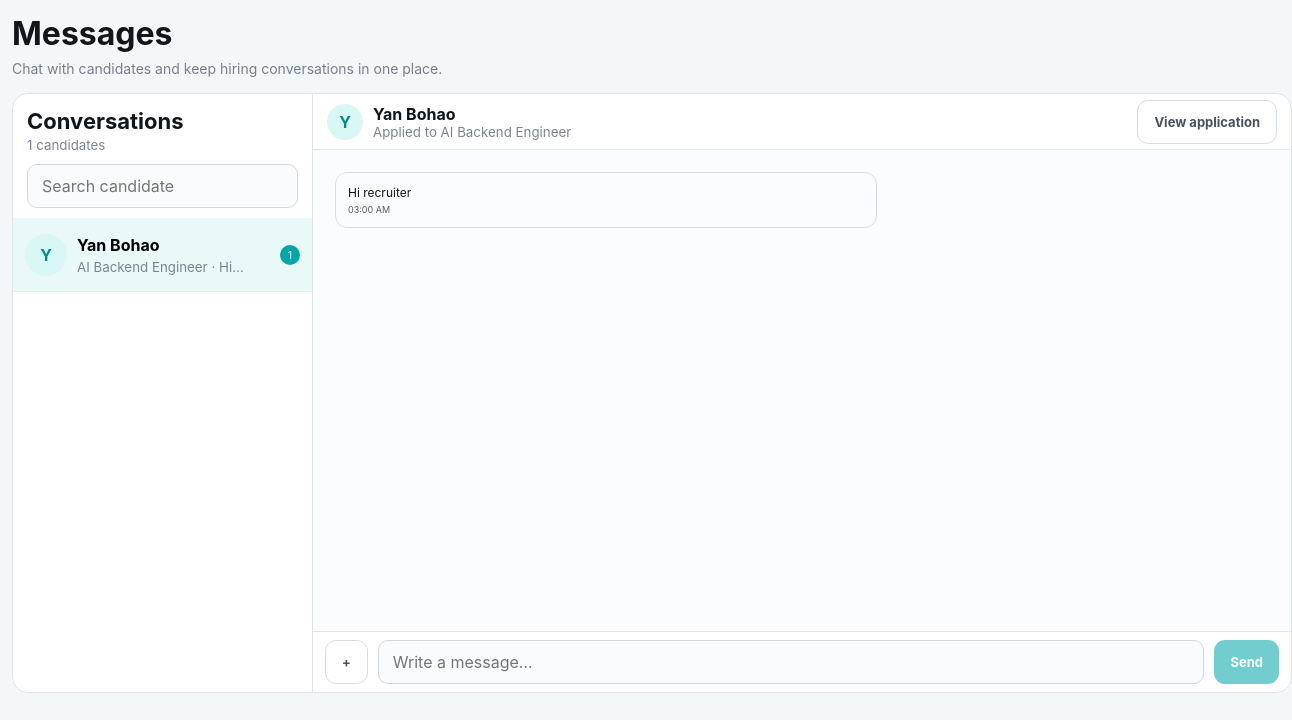
MessagesPage › explains a network send failure and clears the stale error after editing
Type "hello" into the field with placeholder "Write a message…" at (791, 662), box [378, 640, 1204, 684]
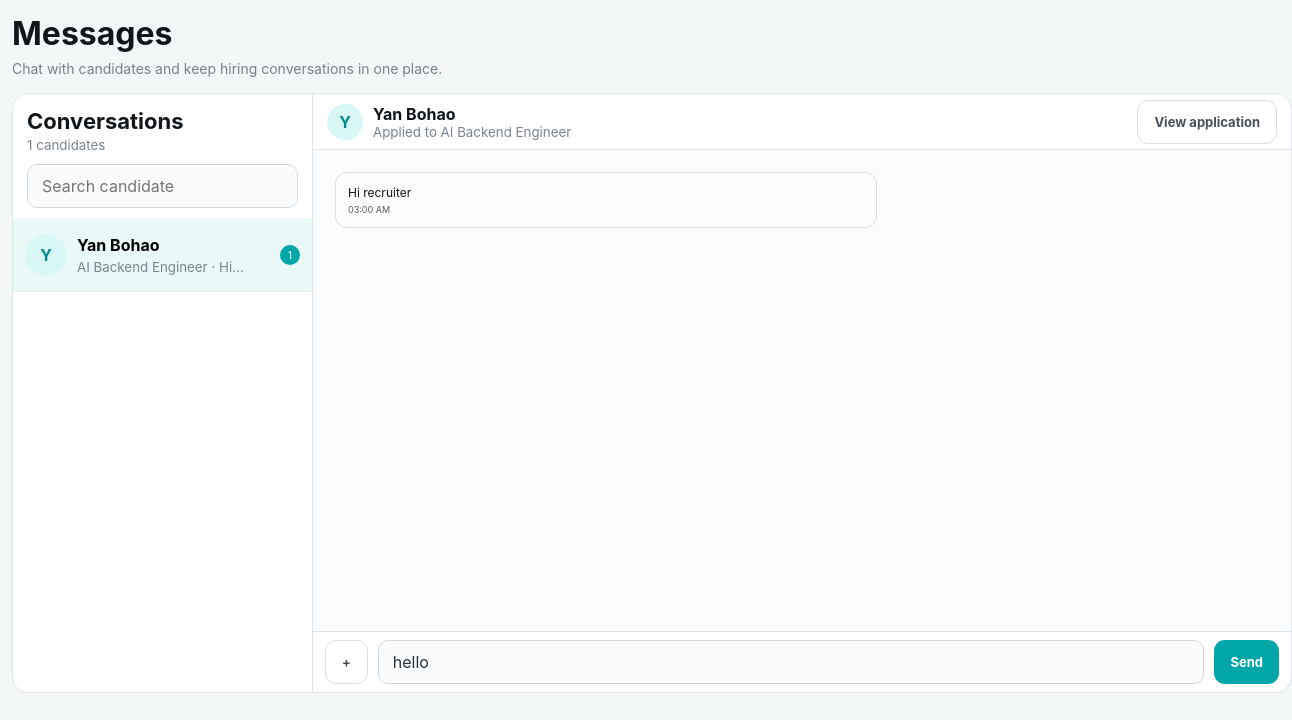
Click the button "Send" at (1247, 662), box [1214, 640, 1279, 684]
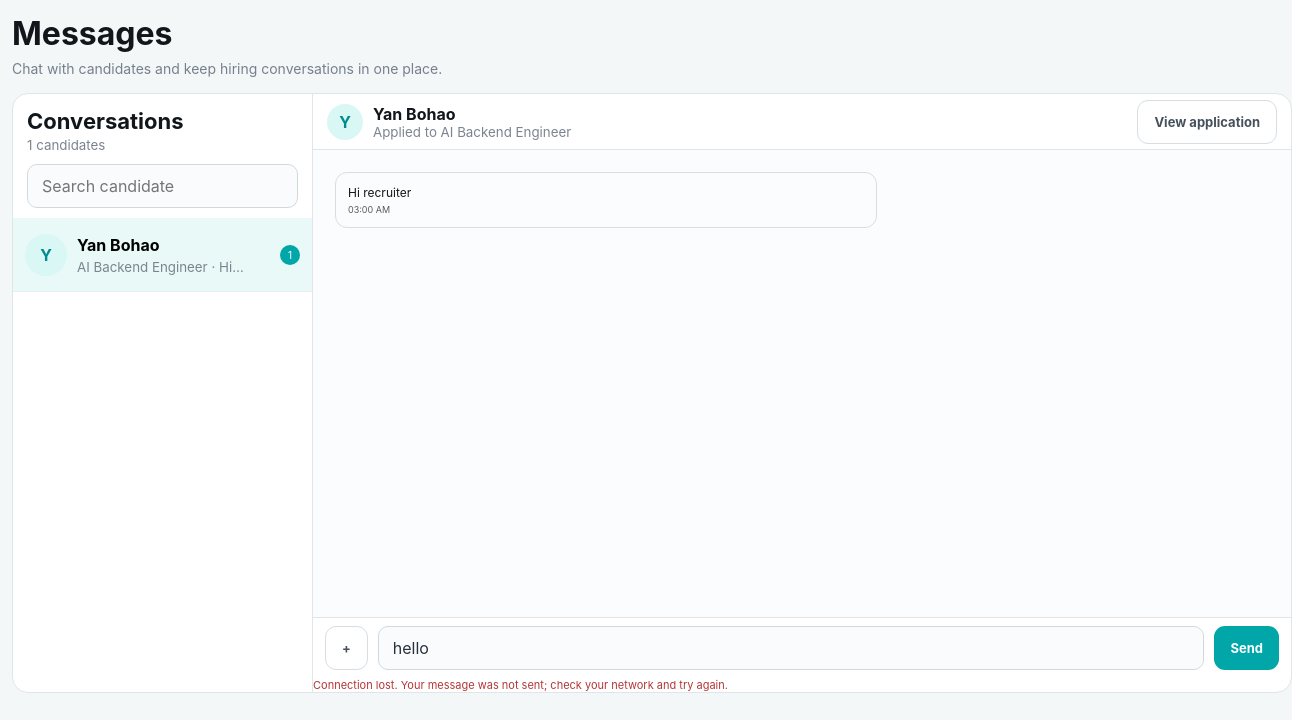
expect the message shows "Connection lost": met, box [313, 678, 728, 692]
Replace the text in the field with placeholder "Write a message…" with "hello again" at (791, 648), box [378, 626, 1204, 670]
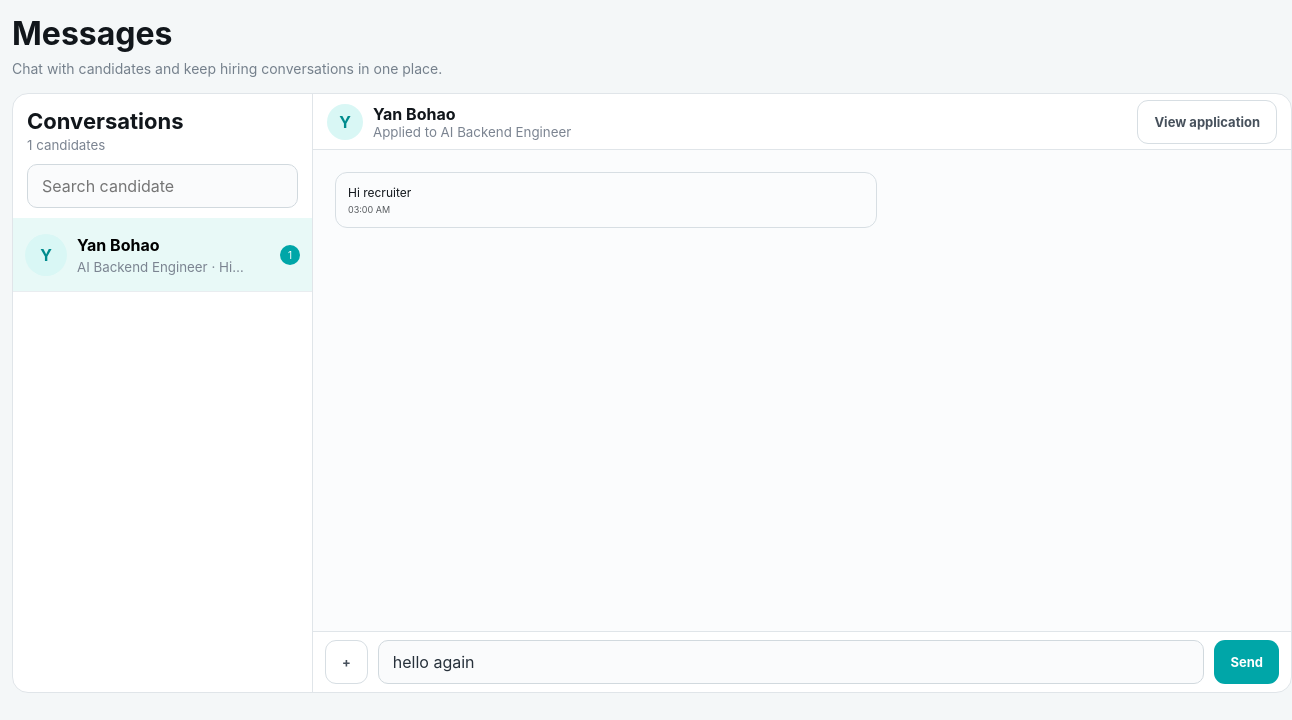
expect the message "Connection lost. Your message was not sent; check your network and try again." is gone: met
